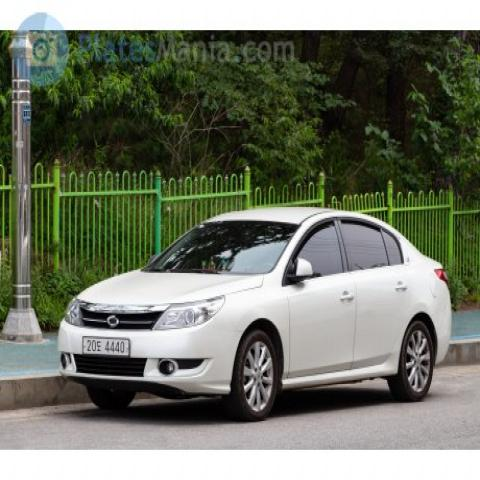LP: (75, 331, 137, 360)
